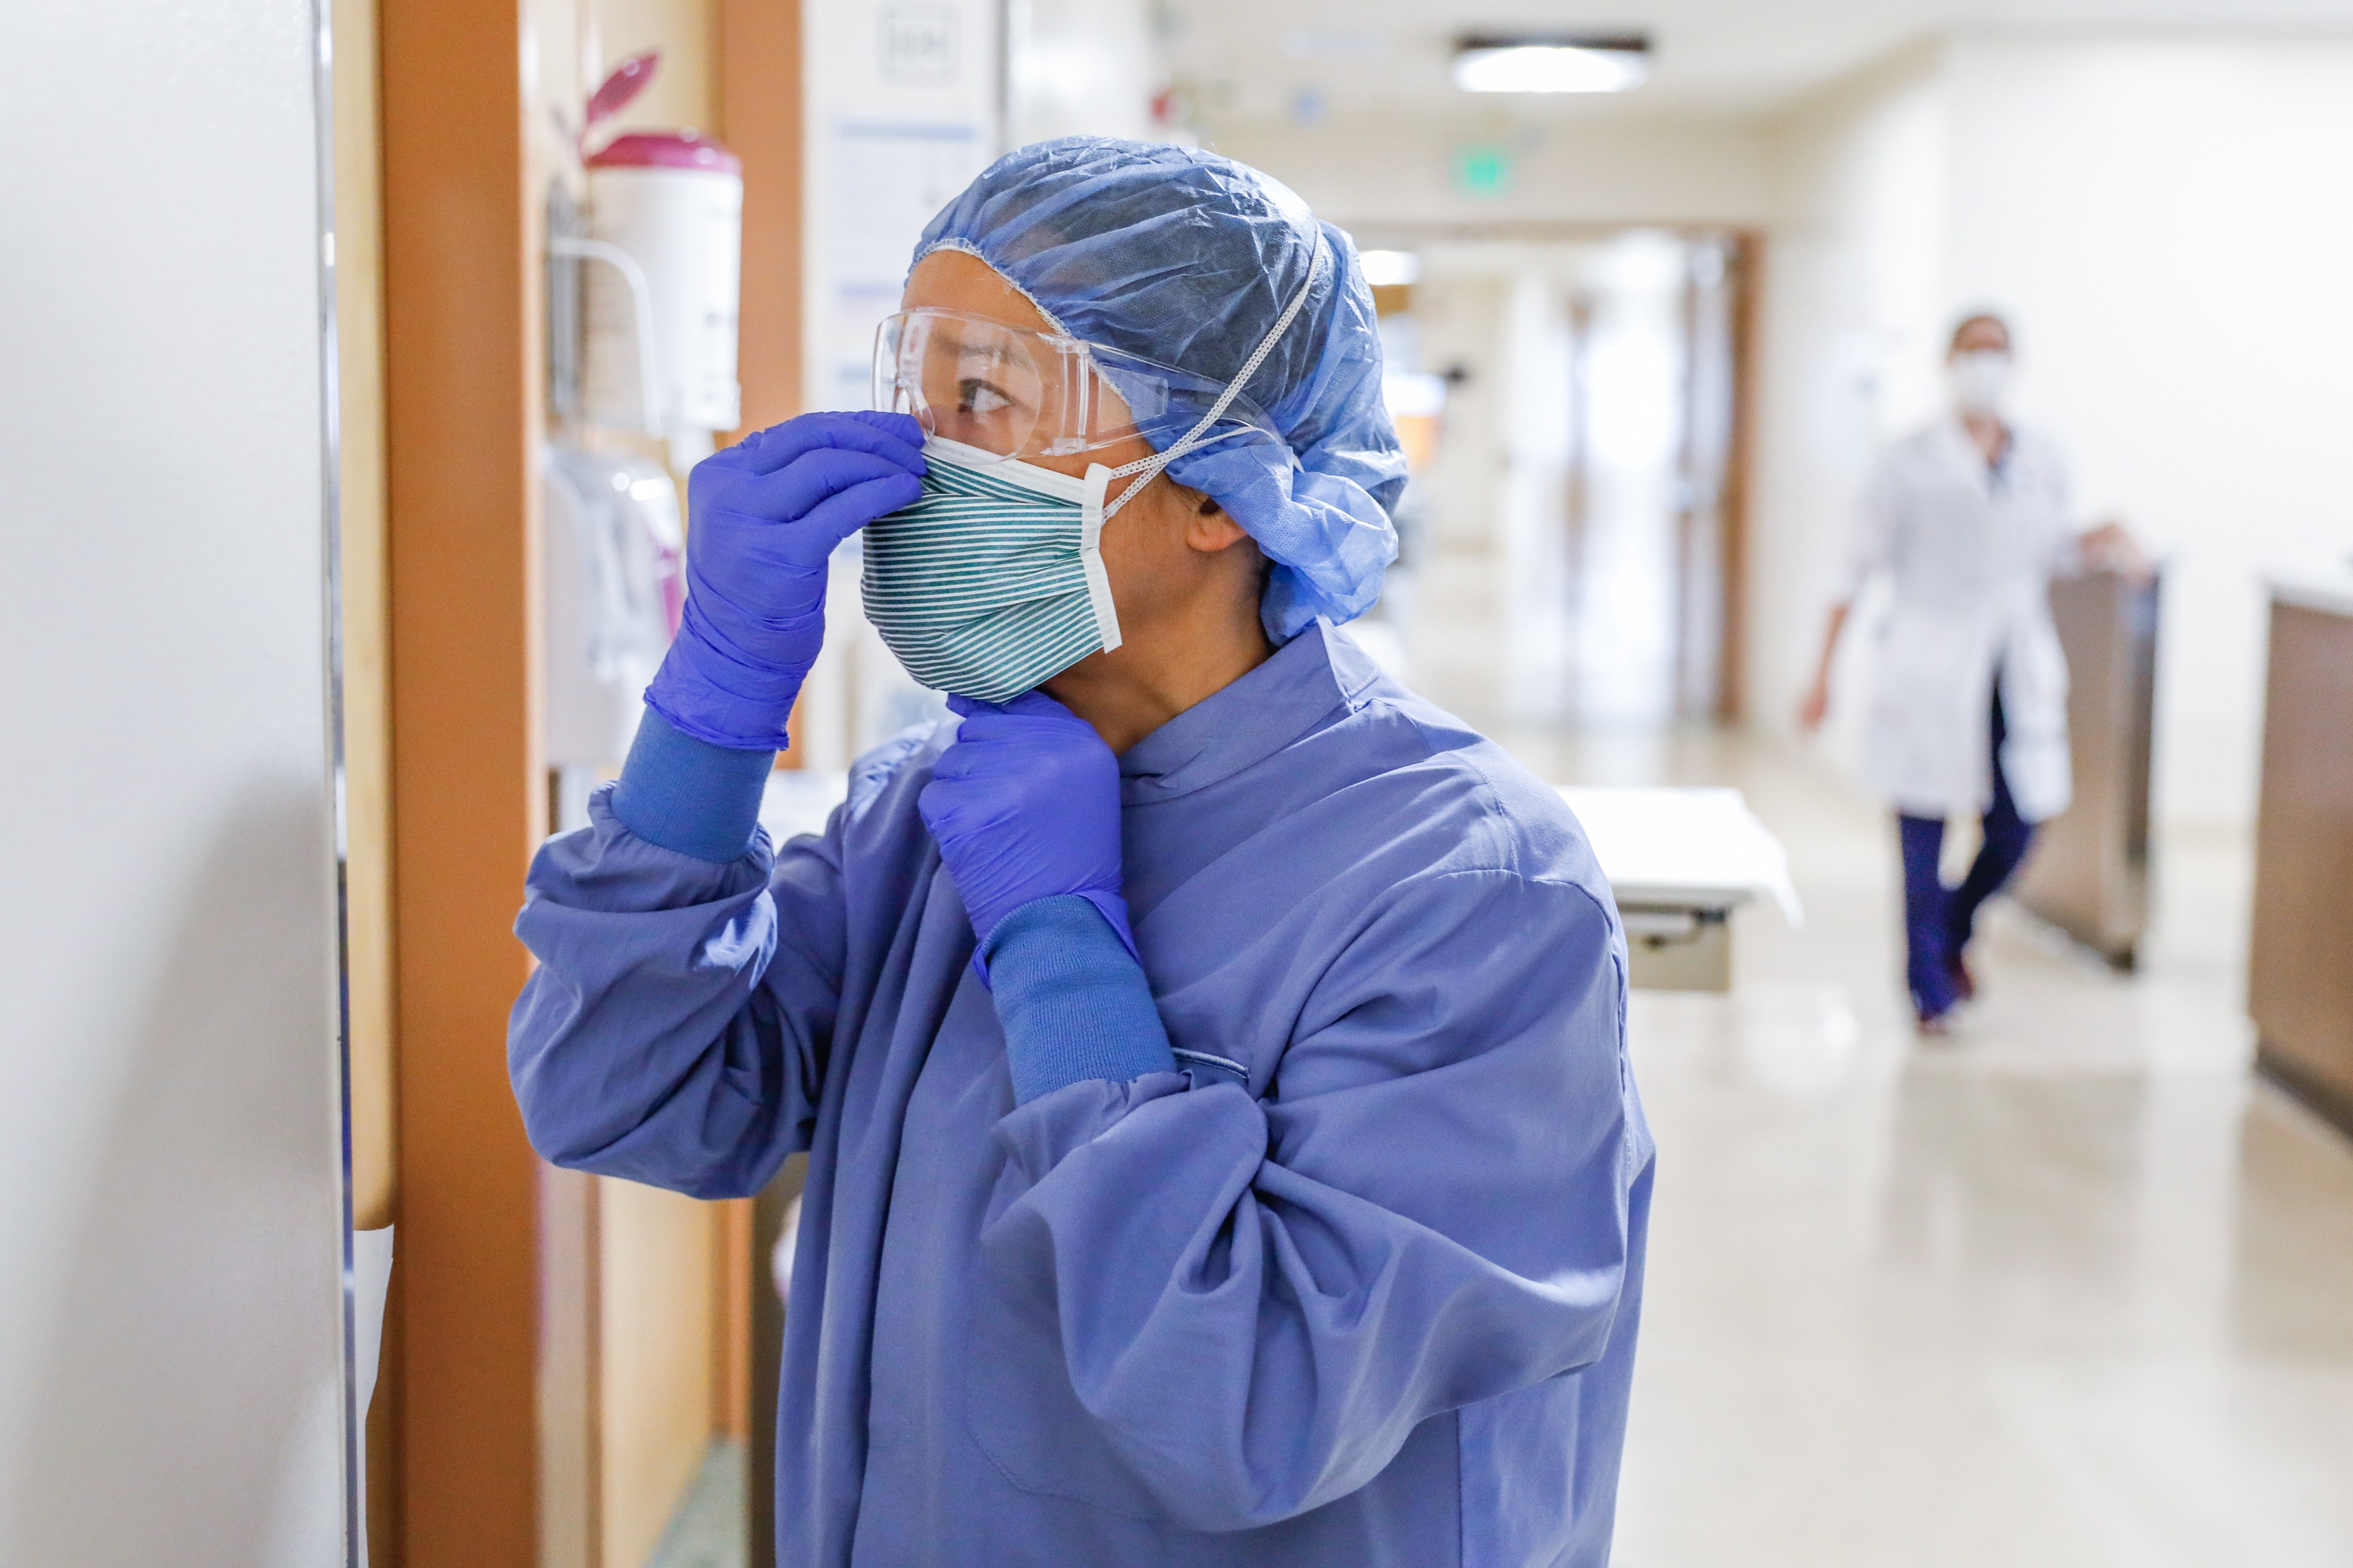Coverall: (575, 147, 1593, 1568)
Gloves: (637, 397, 929, 758), (902, 675, 1168, 990)
Goggles: (848, 297, 1259, 455)
with_mask: (851, 293, 1236, 712)
